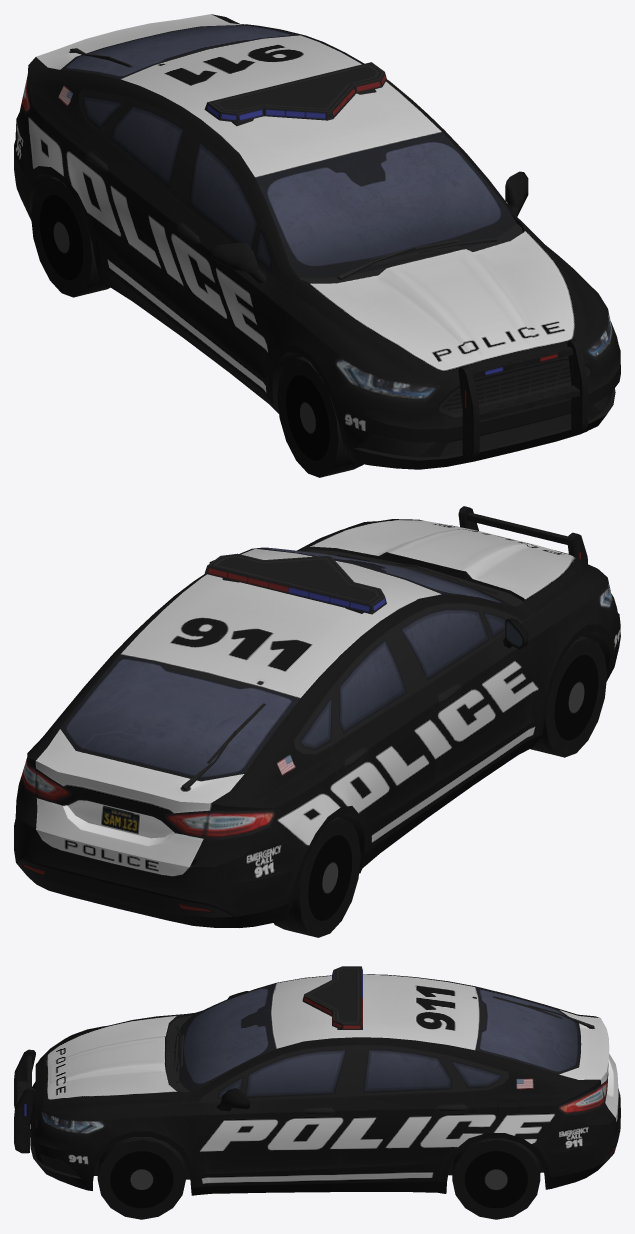
File: ford_mondeo_police_ver.2.glb
3 renders of one model, top to bottom at view 1: azimuth 30°, elevation 25°; view 2: azimuth 150°, elevation 25°; view 3: azimuth 270°, elevation 25°, orthographic. The views are drawn at different scales.
Visible parts, largest first — view 1: Object_4, Object_2, Object_5, Object_3; view 2: Object_4, Object_2, Object_5, Object_3; view 3: Object_4, Object_2, Object_5, Object_3.
Part boxes in pixels (box(x1,y1,x2,y2)): Object_4: box(14, 14, 620, 469); Object_2: box(31, 176, 363, 477); Object_5: box(204, 62, 386, 126); Object_3: box(458, 339, 588, 460); Object_4: box(14, 519, 620, 927); Object_2: box(274, 636, 607, 937); Object_5: box(204, 553, 386, 614); Object_3: box(458, 506, 587, 563); Object_4: box(30, 974, 620, 1195); Object_2: box(97, 1137, 540, 1219); Object_5: box(302, 966, 362, 1029); Object_3: box(14, 1049, 35, 1153).
Size of the model in its own units: 85.68 by 64.21 by 199.
4 materials, 4 textured.
